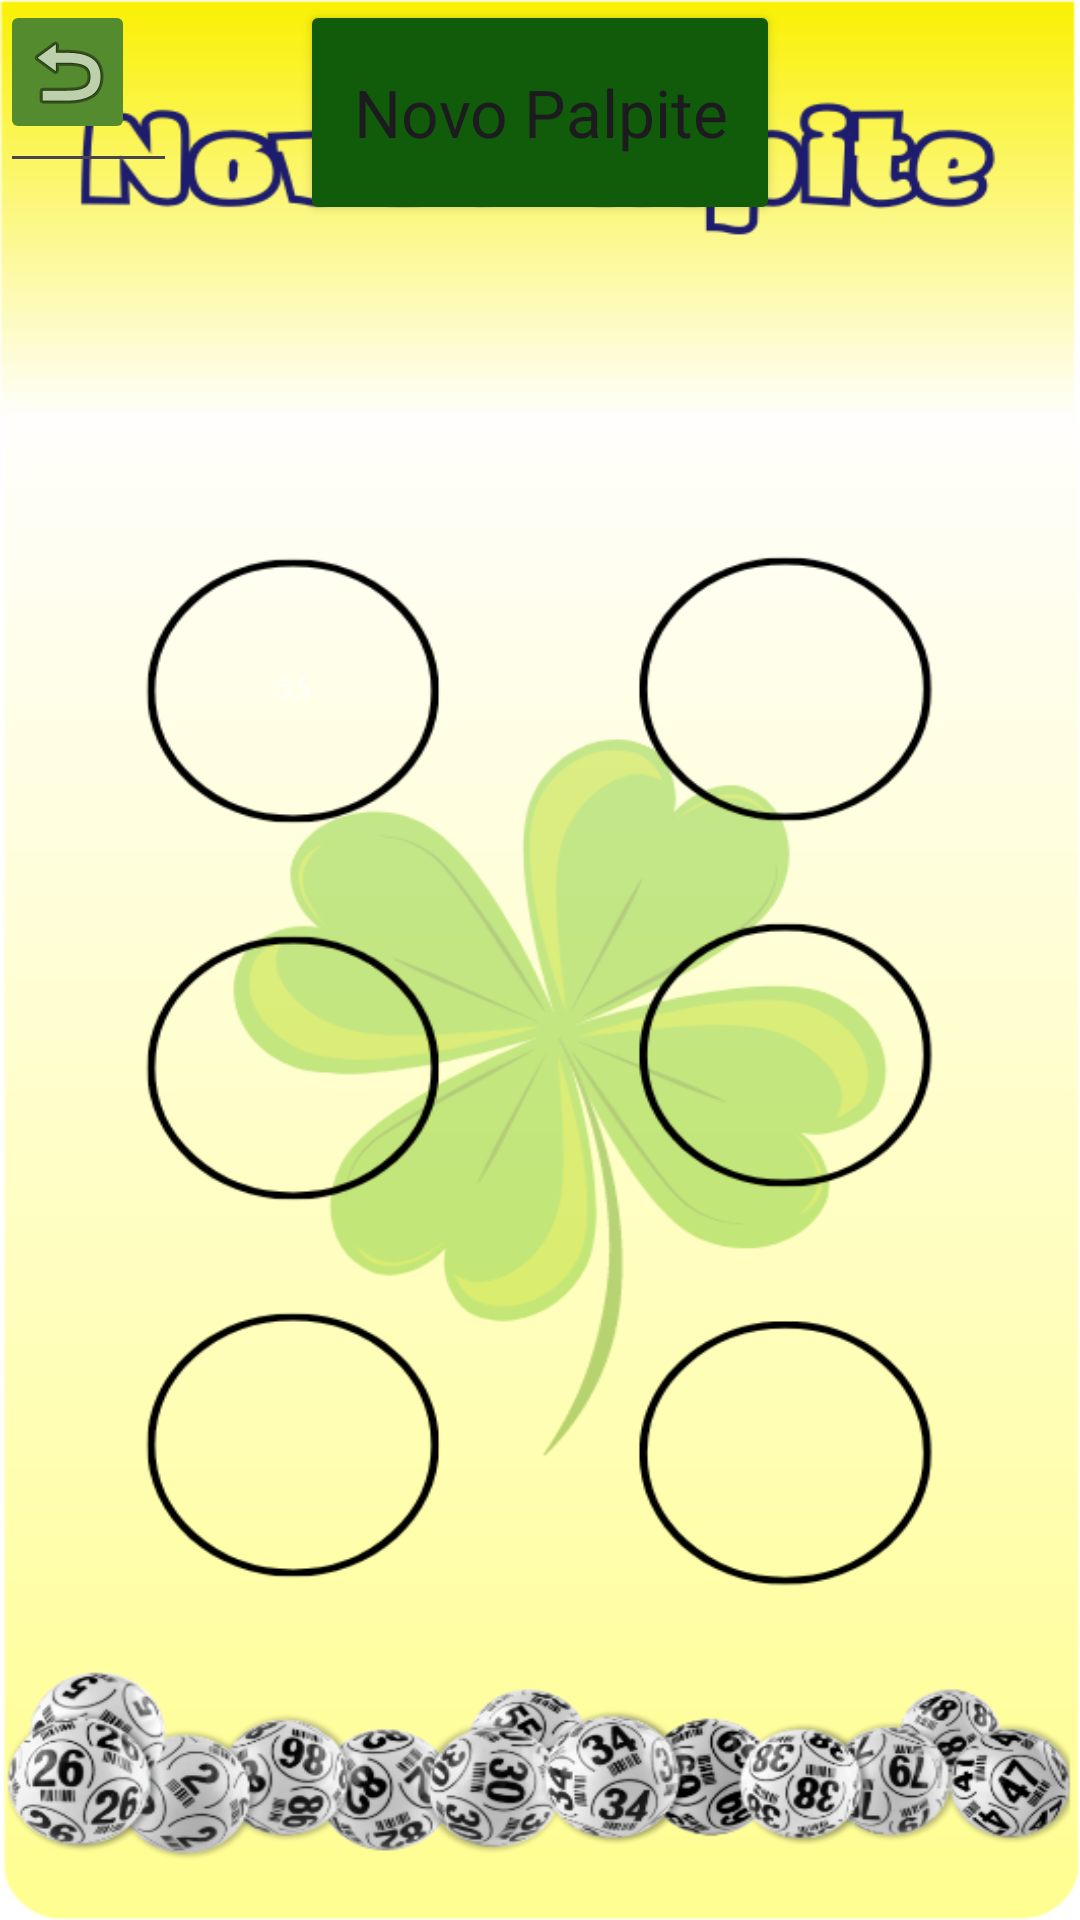

Screen size 1080w x 1920h. Icon name, then its center in pixels as (x,y):
revert: (67,72)
